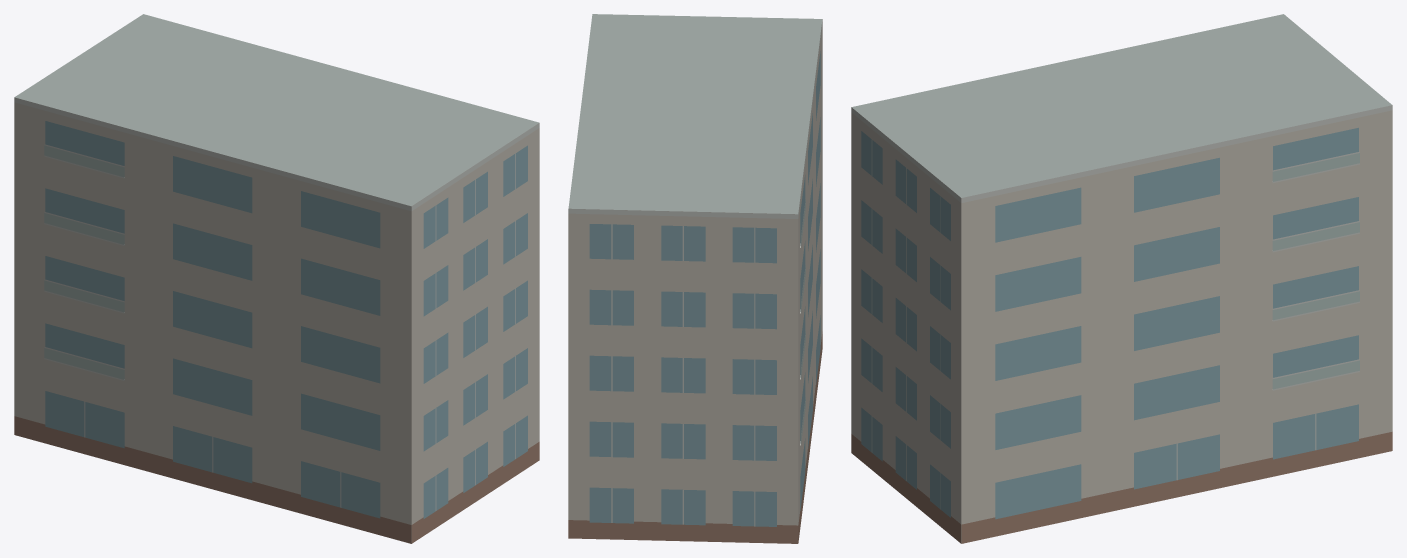
The model's file is survey-upis-33006910.glb.
3 renders of one model, left to right at view 1: azimuth 30°, elevation 25°; view 2: azimuth 150°, elevation 25°; view 3: azimuth 270°, elevation 25°, orthographic. The views are drawn at different scales.
Parts seen in each view (by area): view 1: survey-upis-33006910.tmp; view 2: survey-upis-33006910.tmp; view 3: survey-upis-33006910.tmp.
Part boxes in pixels (<box>): survey-upis-33006910.tmp: <box>14,14,539,543</box>; survey-upis-33006910.tmp: <box>568,14,822,543</box>; survey-upis-33006910.tmp: <box>851,14,1392,543</box>.
Bounding box in the file's own units: 18.67 × 16.35 × 23.19.
